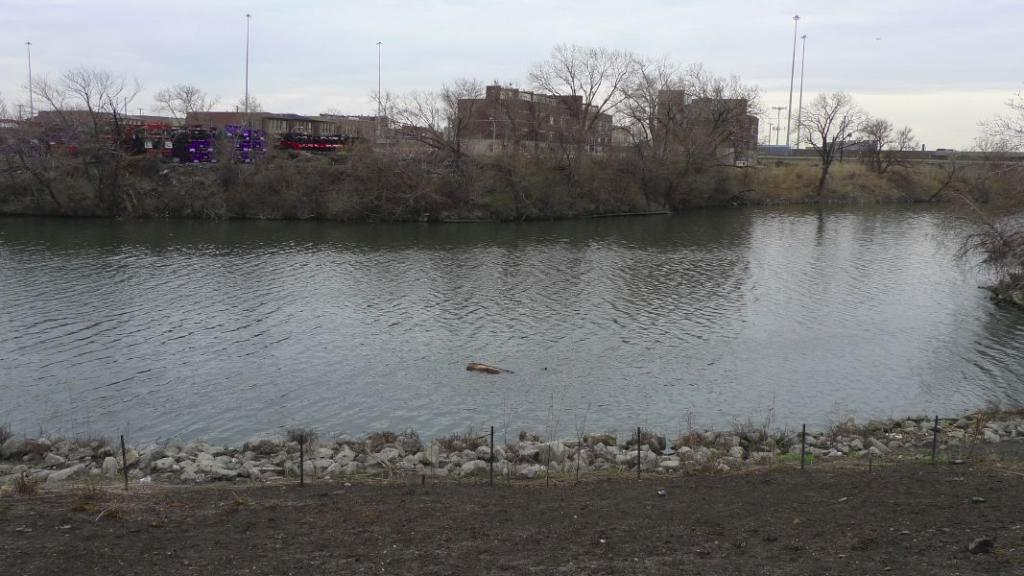Tree: (628, 53, 771, 170), (365, 74, 529, 170), (522, 41, 654, 153), (785, 87, 881, 184), (53, 57, 122, 140), (156, 74, 221, 149), (20, 65, 74, 138), (985, 96, 1023, 198), (858, 115, 887, 168), (227, 96, 258, 129), (895, 119, 917, 149)
